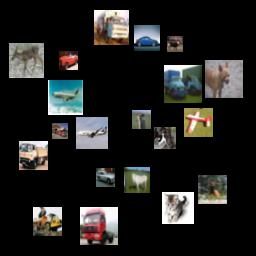airplane: (48, 80, 83, 115), (76, 117, 108, 149), (184, 108, 213, 137)
automobile: (134, 25, 160, 51), (59, 51, 78, 70), (96, 168, 115, 187)
bird: (132, 110, 151, 129)
cat: (162, 192, 194, 224)
deer: (9, 43, 44, 78), (198, 175, 227, 204), (167, 36, 183, 52)
dog: (205, 60, 243, 98), (154, 127, 176, 149)
truck: (164, 65, 202, 103), (80, 207, 118, 245), (94, 10, 129, 45), (19, 141, 48, 170), (33, 207, 62, 236), (52, 123, 68, 139)
